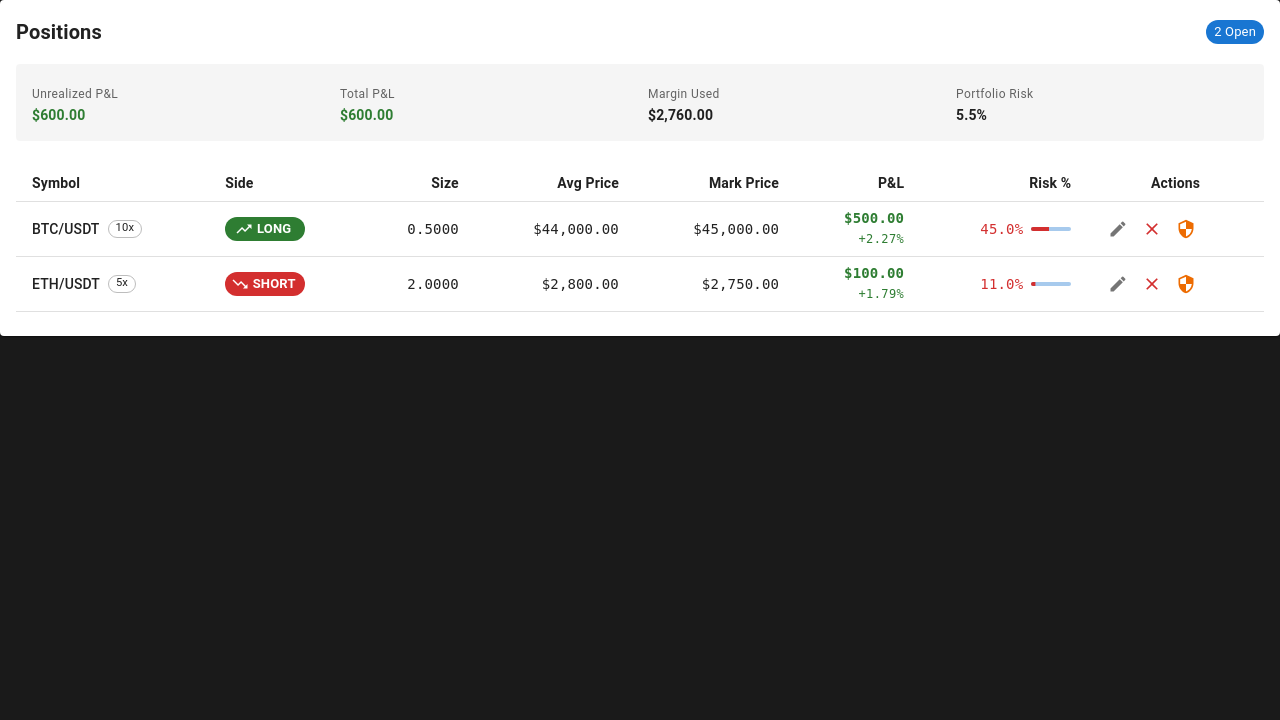
Test case: PositionManager Component › opens modify position dialog
What coordinates should you click on to do the following:
click the button named "modify position" in the row of "BTC/USDT"
I would click on:
 (1118, 229)
Its box is [1103, 214, 1133, 244].
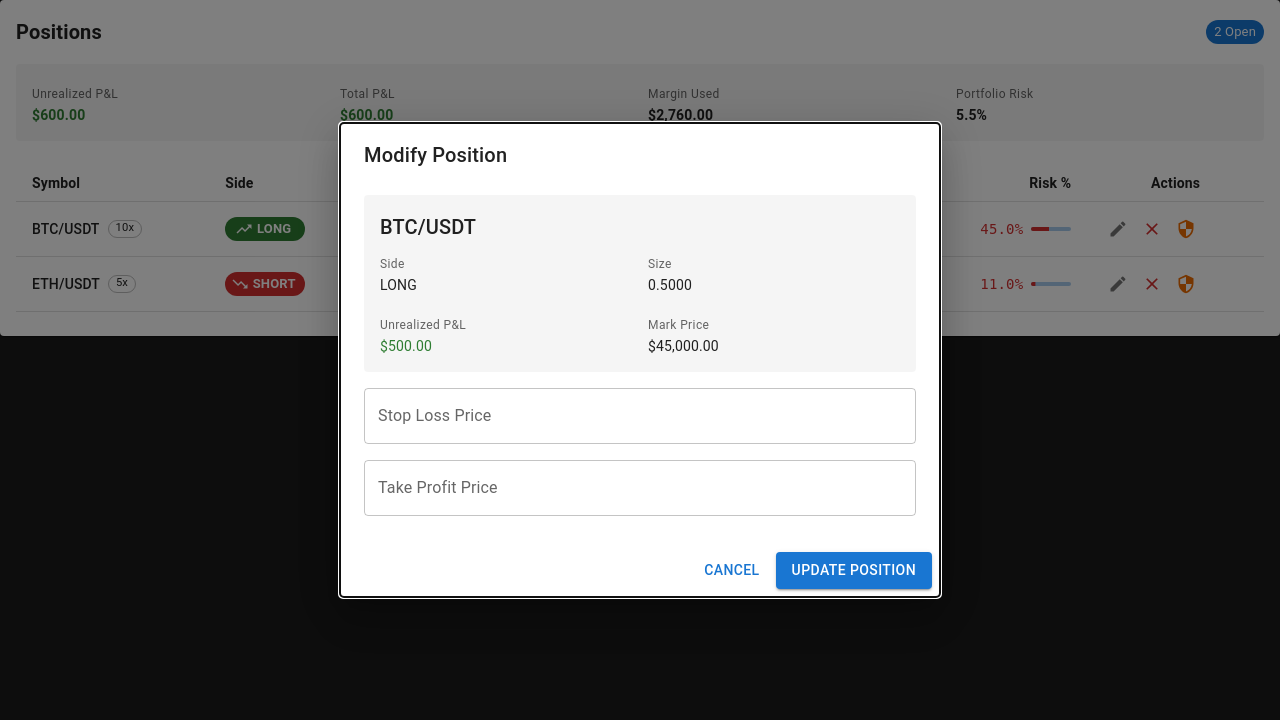
Check: the heading "Modify Position" is shown, box [364, 143, 507, 167]
Check: the number field labelled "Stop Loss Price" is shown, box [364, 388, 916, 444]
Check: the number field labelled "Take Profit Price" is shown, box [364, 460, 916, 516]
